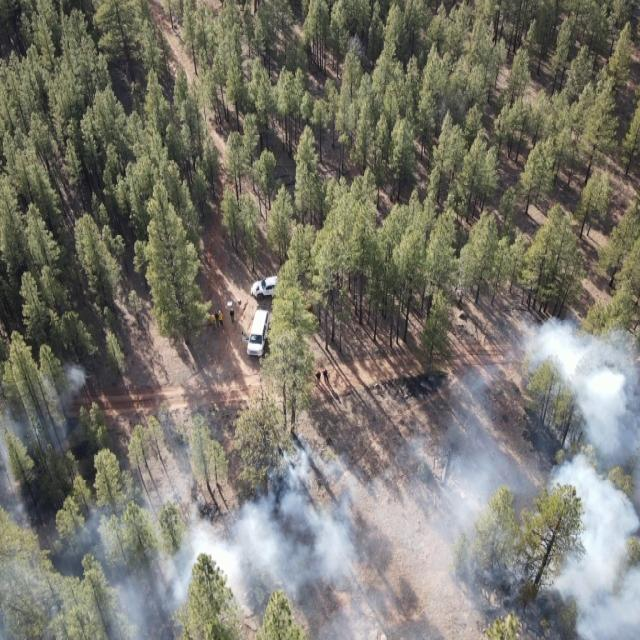smoke: (396, 319, 640, 640), (97, 435, 395, 640), (0, 360, 97, 640)
